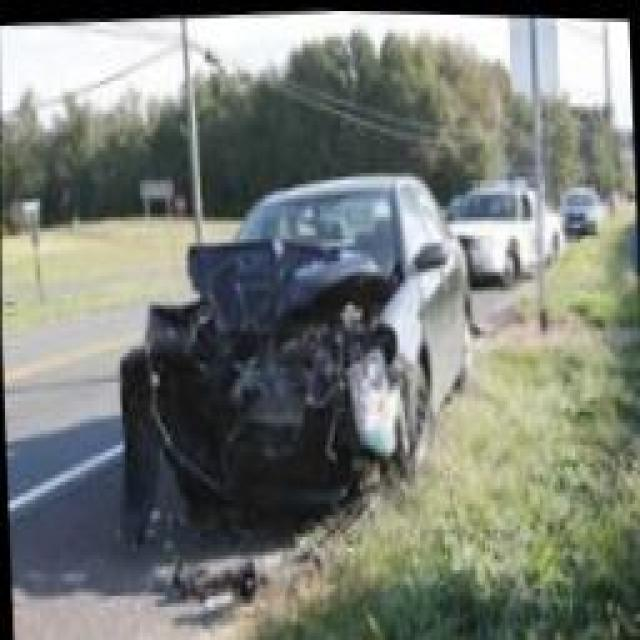Bonnet: (174, 230, 404, 336)
Bumper: (120, 384, 386, 508)
Light: (342, 322, 400, 389), (133, 317, 180, 385)
